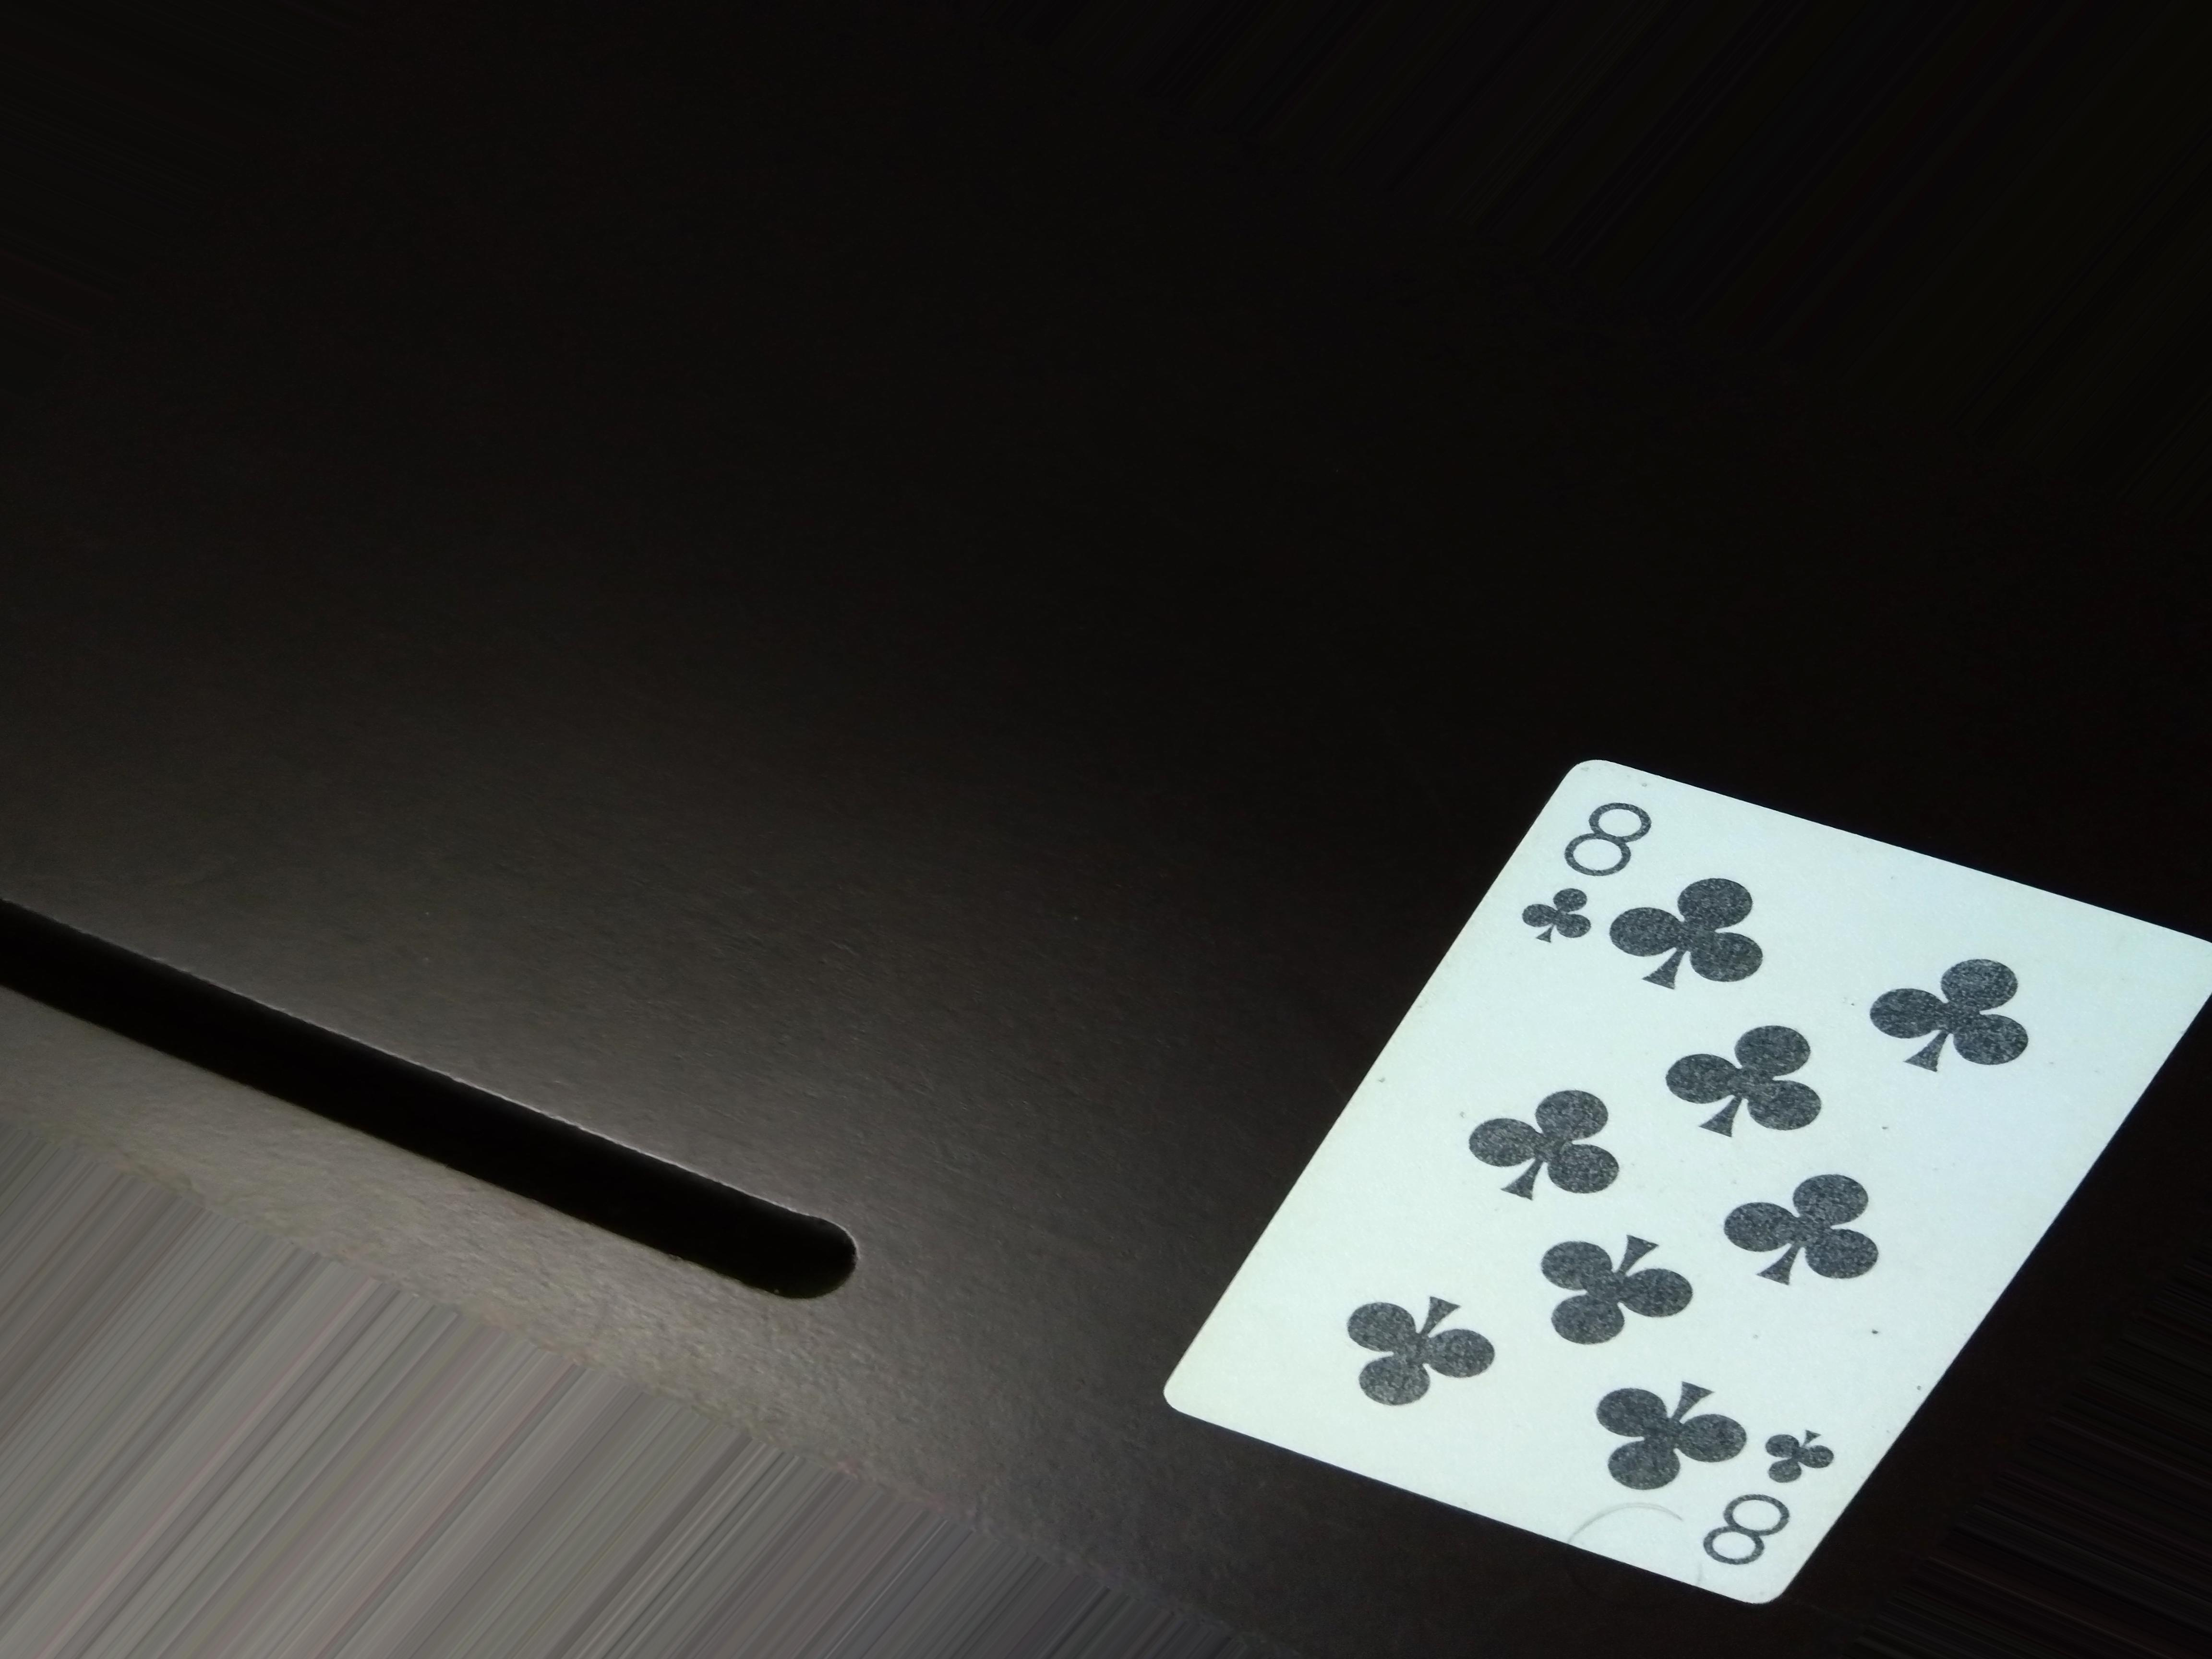8C: (1531, 758, 1653, 960)
